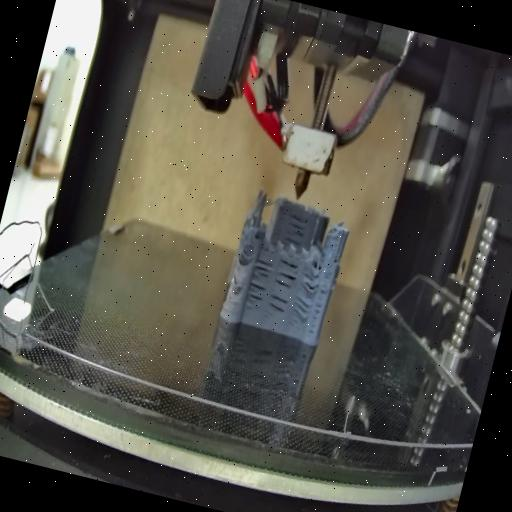cracks: (308, 278, 330, 338), (272, 258, 300, 290), (280, 212, 308, 243), (264, 290, 290, 322), (298, 266, 322, 294), (244, 282, 266, 309), (251, 258, 274, 282), (290, 296, 312, 321), (235, 246, 252, 266), (229, 274, 243, 288), (330, 251, 340, 266)
